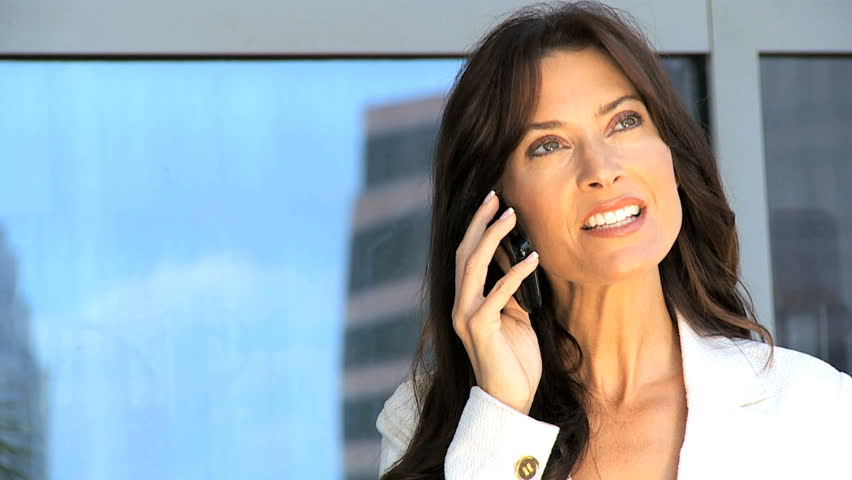phone: (468, 199, 562, 321)
talk: (445, 87, 687, 416)
